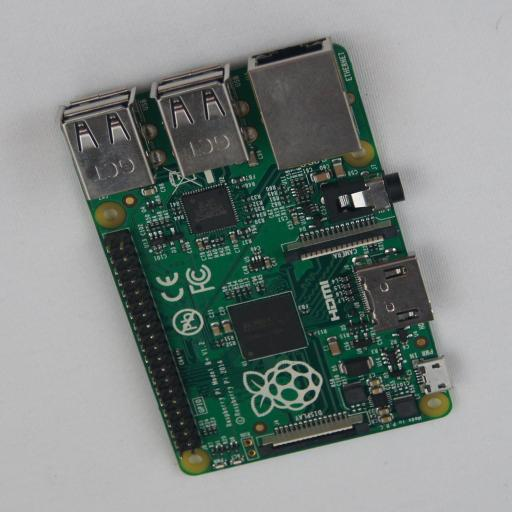Raspberry Pi 1 B-: (60, 38, 452, 476)
